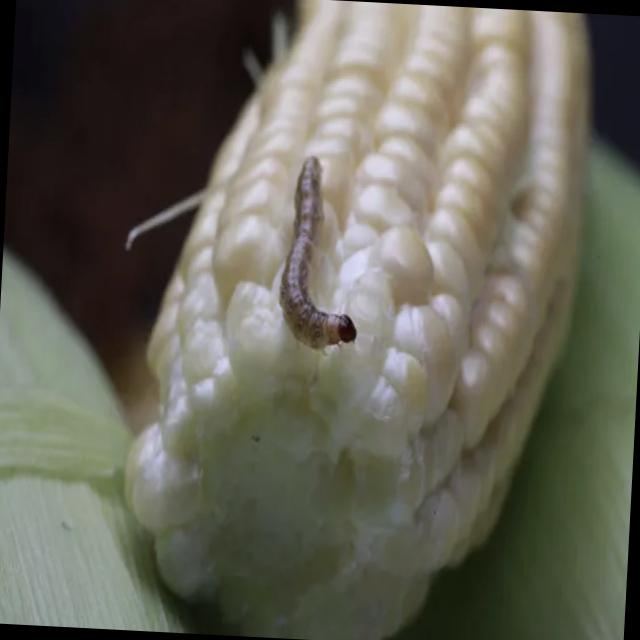pest: (283, 157, 365, 356)
